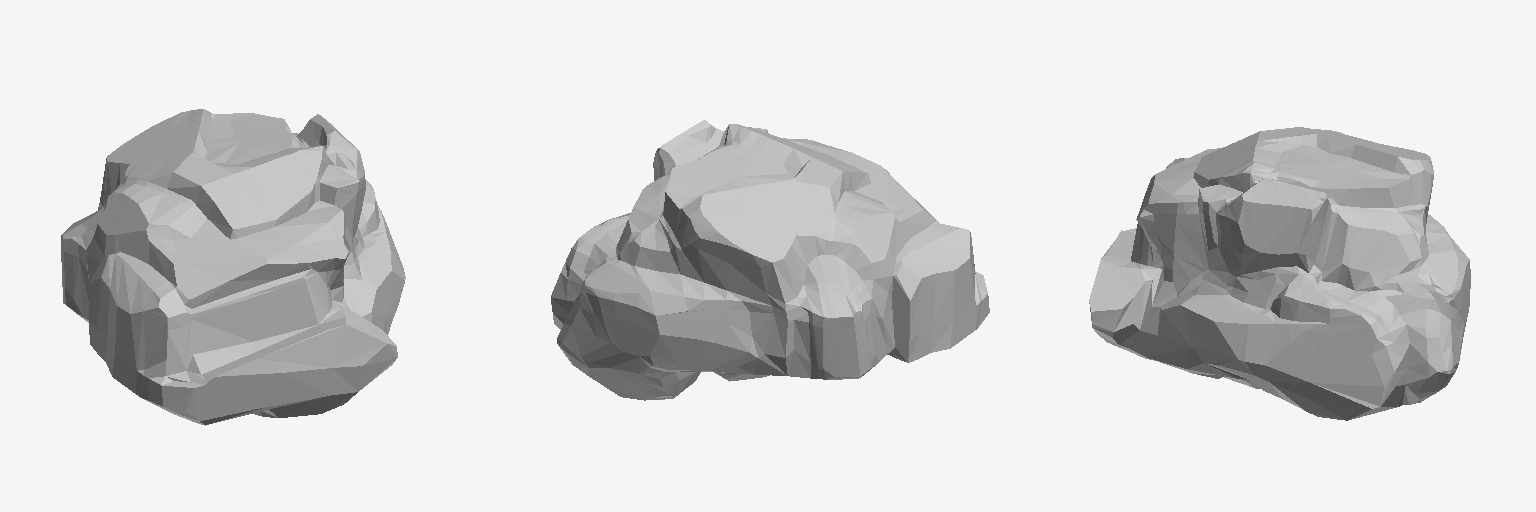
Rendered from Rock_Big_2.obj.
3 views of the same model, side by side, from view 1: azimuth 30°, elevation 25°; view 2: azimuth 150°, elevation 25°; view 3: azimuth 270°, elevation 25° (orthographic).
Visible parts, largest first — view 1: Rock_Big_2; view 2: Rock_Big_2; view 3: Rock_Big_2.
Boxes of the visible parts, x1=… form: Rock_Big_2: x1=61, y1=109, x2=405, y2=425; Rock_Big_2: x1=551, y1=120, x2=989, y2=400; Rock_Big_2: x1=1089, y1=127, x2=1470, y2=420.
Size of the model in its own units: 5.77 by 3.81 by 5.82.